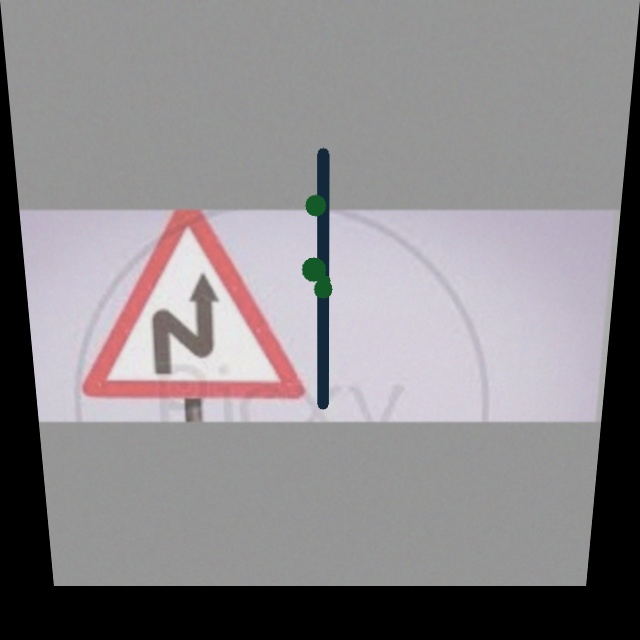Right_Reverse_Bend: (98, 227, 283, 397)
